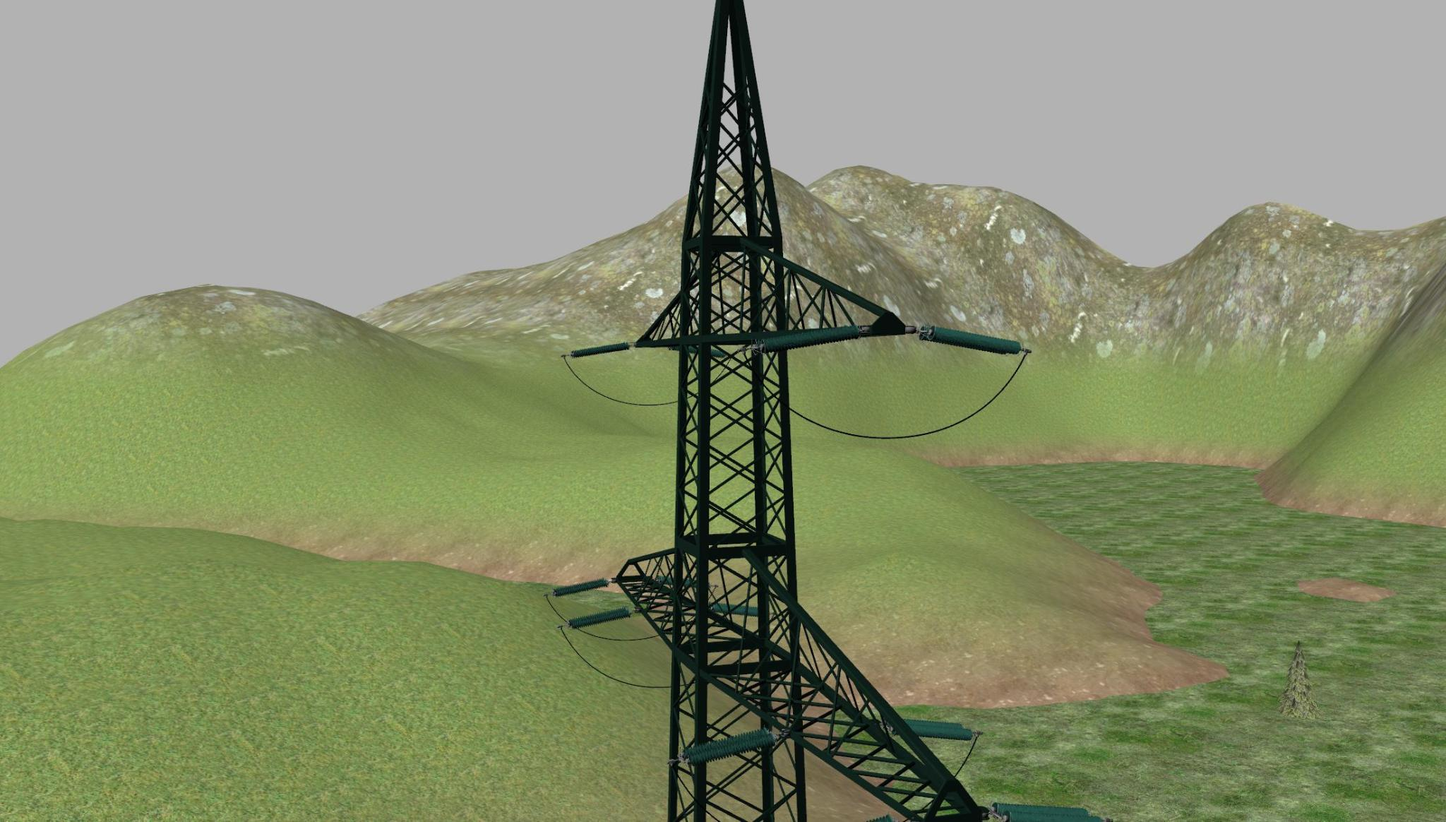tower: (610, 2, 984, 822)
